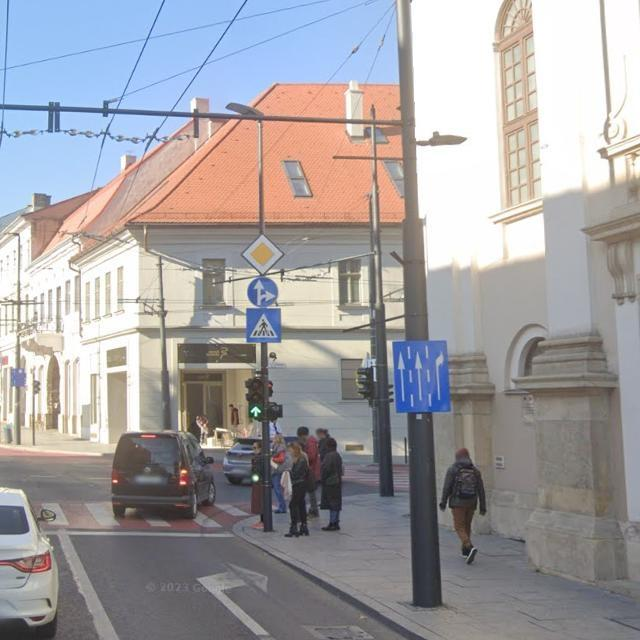info_crosswalk: (246, 308, 282, 343)
